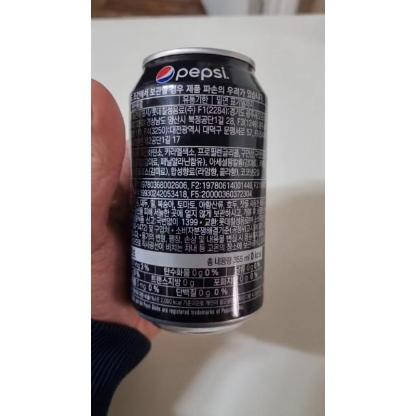Can: (124, 49, 268, 333)
